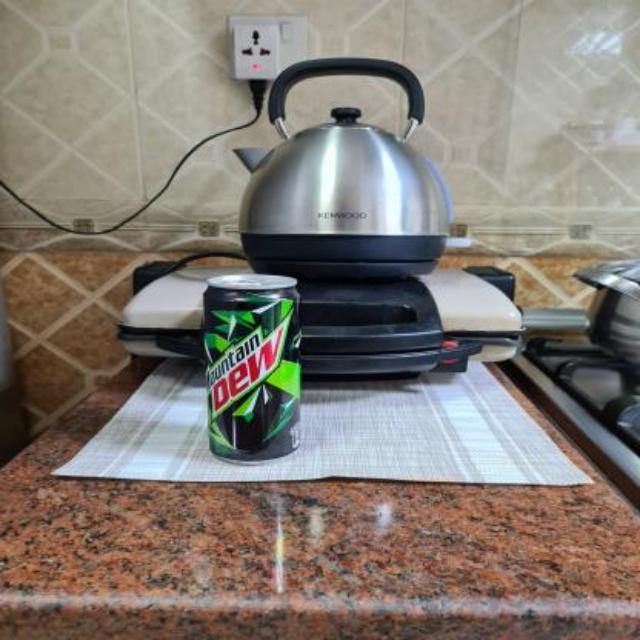metal: (202, 275, 300, 462)
